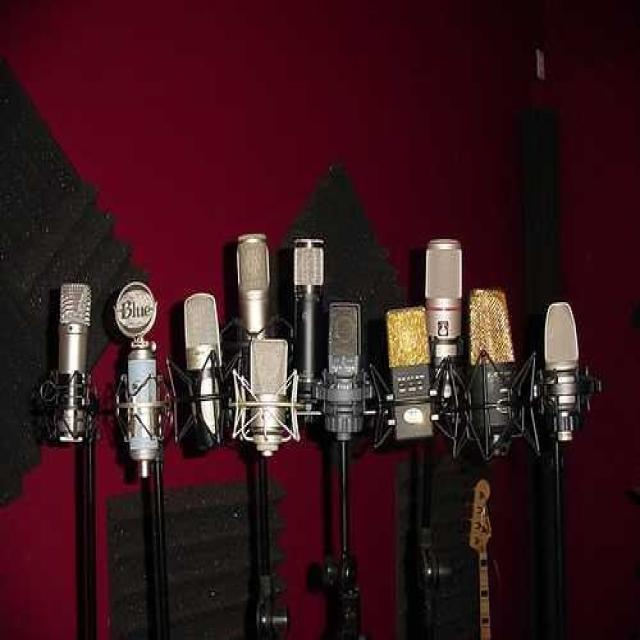microphone: (40, 284, 102, 636), (114, 279, 164, 464), (322, 289, 374, 462), (468, 289, 516, 455), (182, 292, 226, 453), (55, 282, 93, 443), (425, 240, 463, 396), (386, 308, 430, 437), (293, 239, 326, 402), (543, 304, 581, 443), (249, 336, 288, 454), (236, 234, 270, 344)
